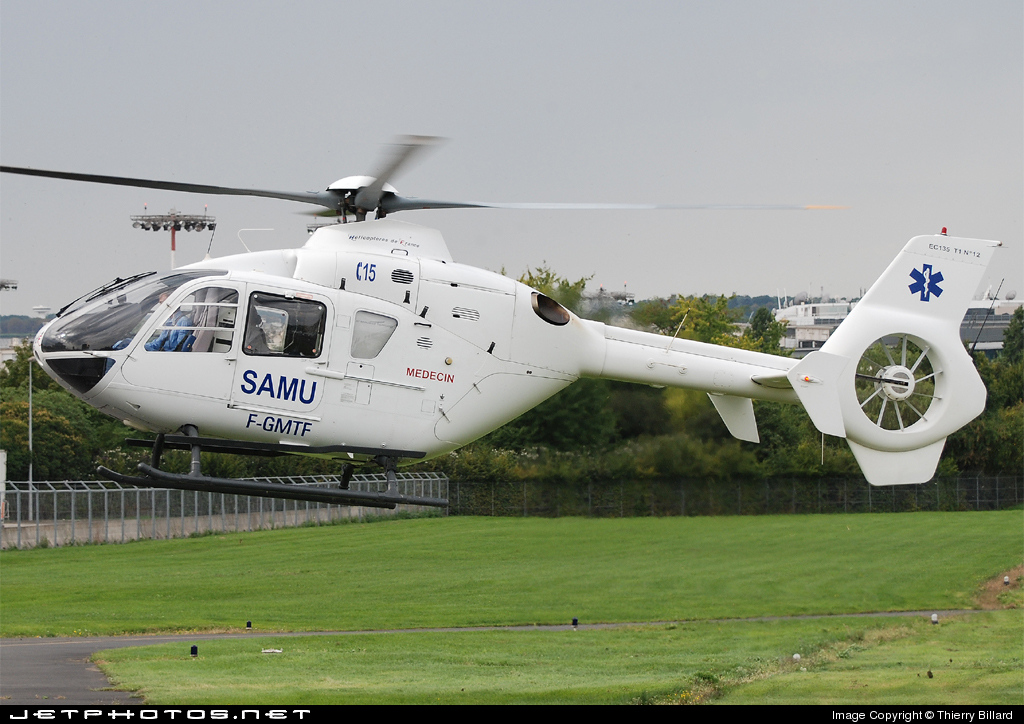number: (243, 409, 314, 439)
